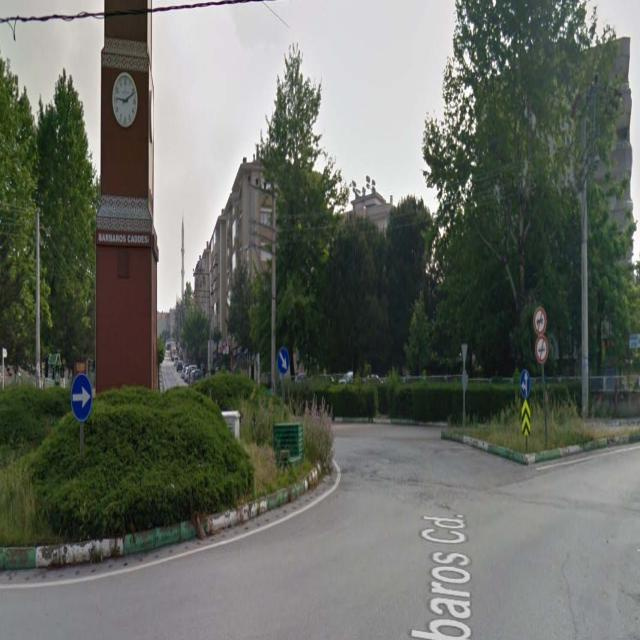ilerisol: (520, 370, 531, 396)
sag: (70, 375, 92, 422)
